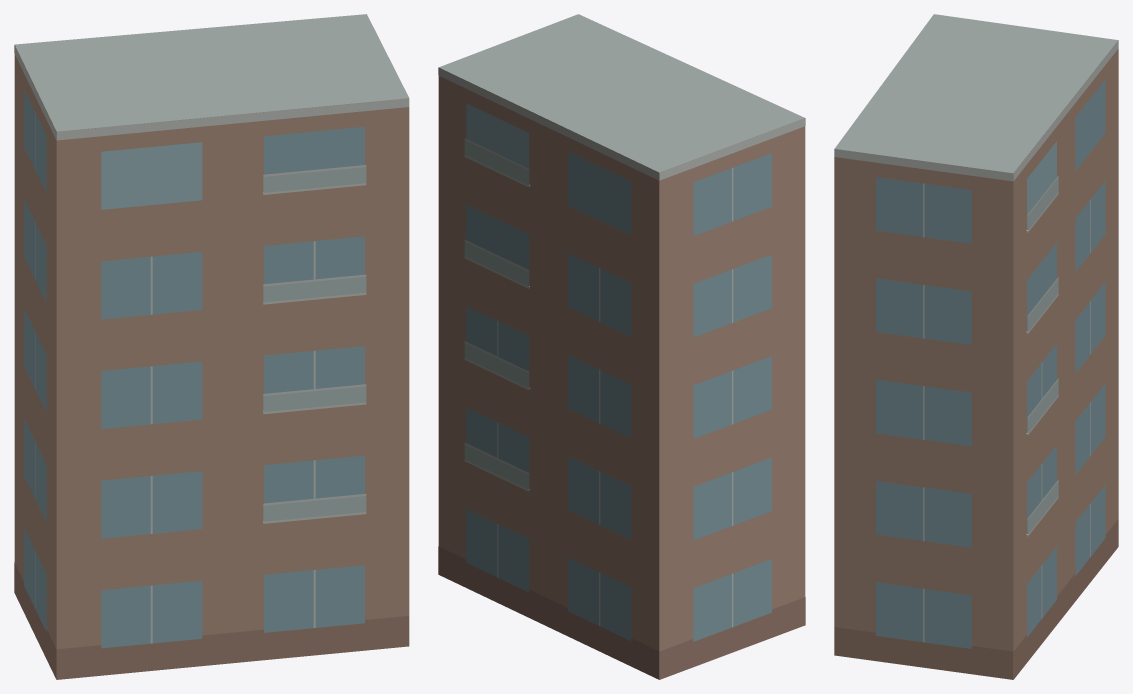
The model's file is survey-upis-32724443.glb.
3 views of the same model, side by side, from view 1: azimuth 30°, elevation 25°; view 2: azimuth 150°, elevation 25°; view 3: azimuth 270°, elevation 25° (orthographic). The views are drawn at different scales.
Parts seen in each view (by area): view 1: survey-upis-32724443.tmp; view 2: survey-upis-32724443.tmp; view 3: survey-upis-32724443.tmp.
Part boxes in pixels (x1,y1,x2,y2): survey-upis-32724443.tmp: [14, 14, 409, 679]; survey-upis-32724443.tmp: [438, 14, 805, 679]; survey-upis-32724443.tmp: [834, 14, 1118, 679].
Size of the model in its own units: 10.3 by 15.25 by 7.76.
